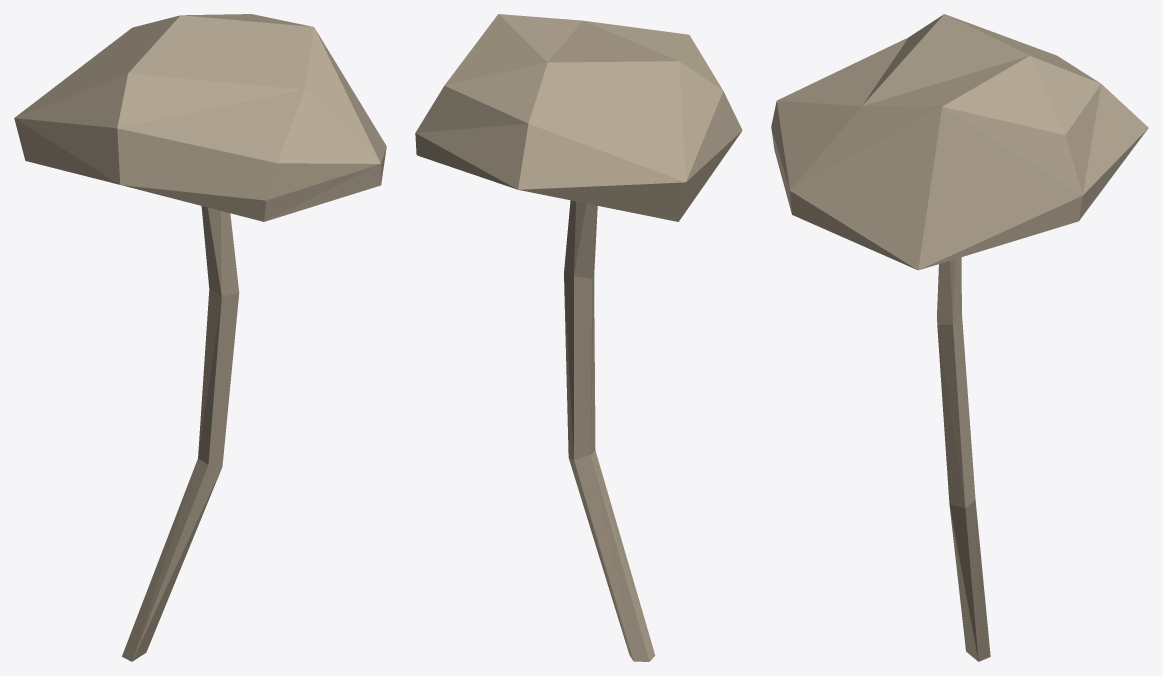
Rendered from SM_Mushroom_Brown_03.fbx.
3 views of the same model, side by side, from view 1: azimuth 30°, elevation 25°; view 2: azimuth 150°, elevation 25°; view 3: azimuth 270°, elevation 25° (orthographic). The views are drawn at different scales.
Parts seen in each view (by area): view 1: SM_Mushroom_Brown_03; view 2: SM_Mushroom_Brown_03; view 3: SM_Mushroom_Brown_03.
Boxes of the visible parts, box(x1,y1,x2,y2) form: SM_Mushroom_Brown_03: box(14, 14, 386, 661); SM_Mushroom_Brown_03: box(415, 14, 742, 661); SM_Mushroom_Brown_03: box(771, 14, 1148, 661).
Size of the model in its own units: 38.4 by 72.46 by 38.97.
